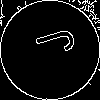J: (25, 25, 77, 62)
